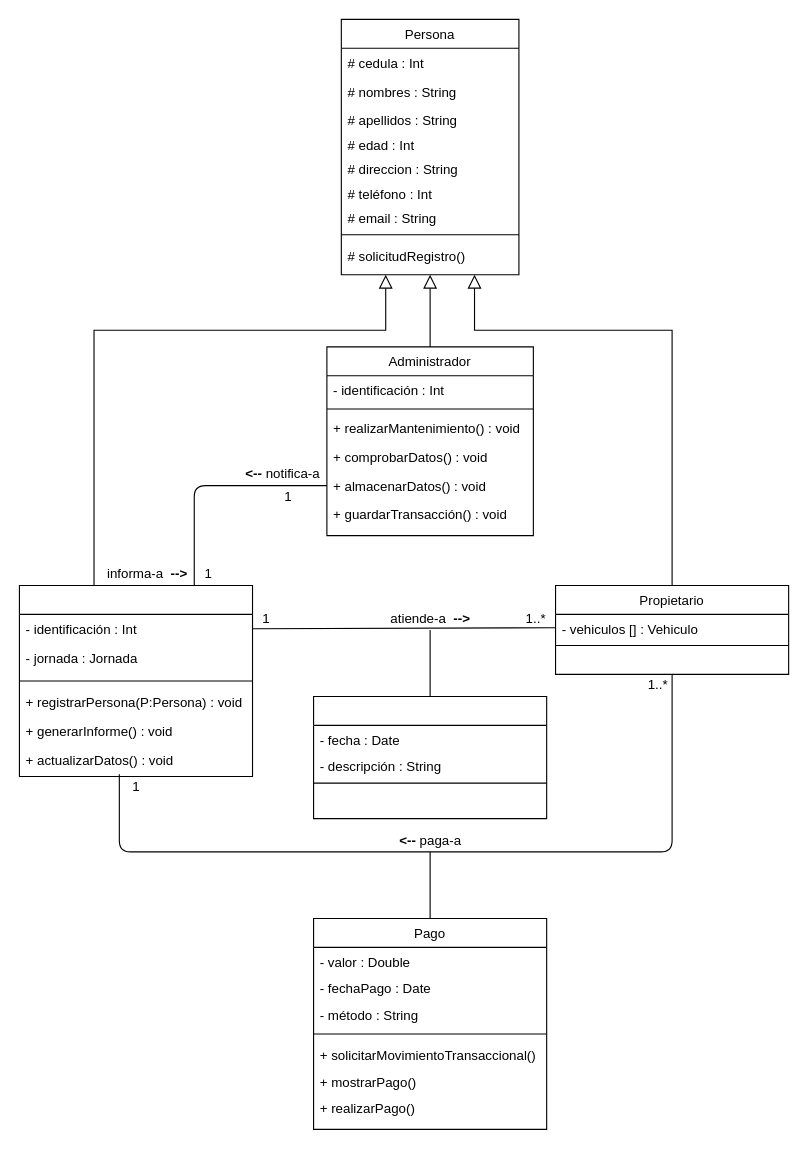
This 808x1149 diagram has some shape labels left out. The shapes that lost their labels are listed below. From the top down, each one's box as (x1, y1, x2, y2) in pixels, then its label:
(18, 584, 253, 776): Funcionario
(312, 695, 547, 819): Atención
